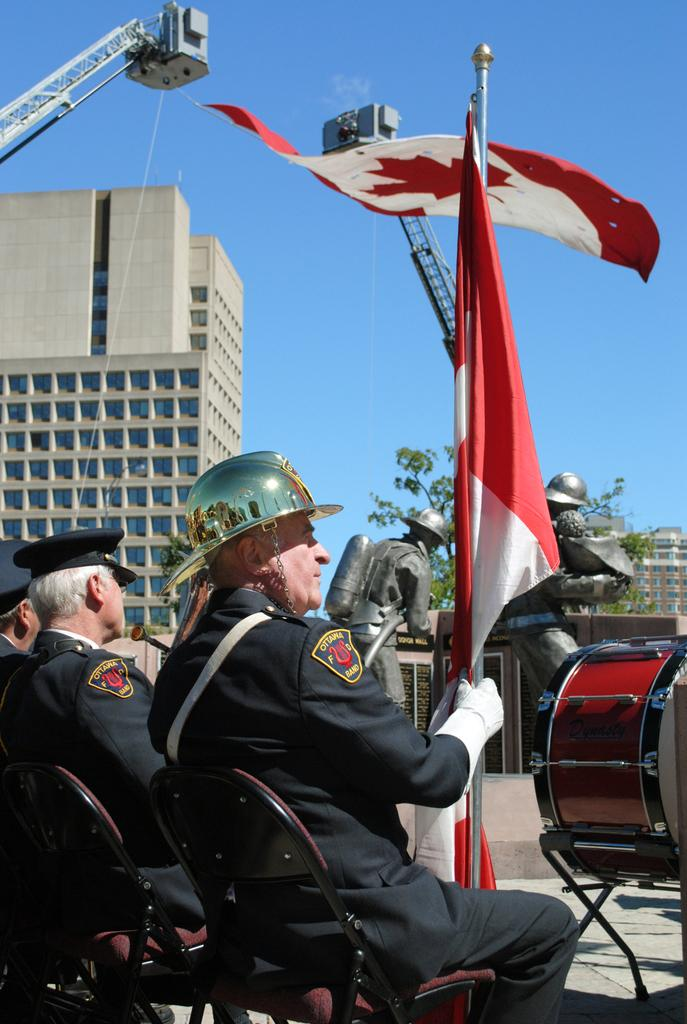helmet: (160, 451, 345, 610), (540, 472, 589, 518), (399, 508, 448, 552)
nohelmet: (12, 526, 139, 647)
